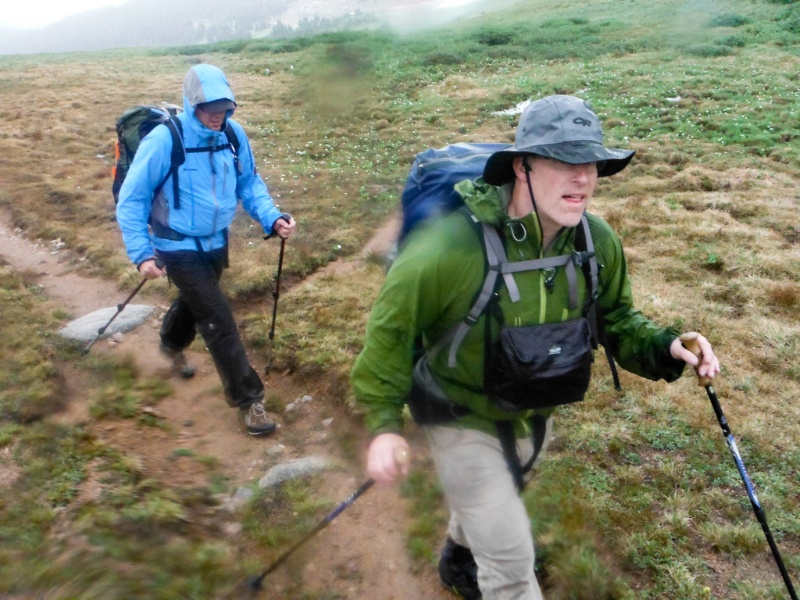person: (367, 54, 689, 600), (114, 44, 307, 444)
